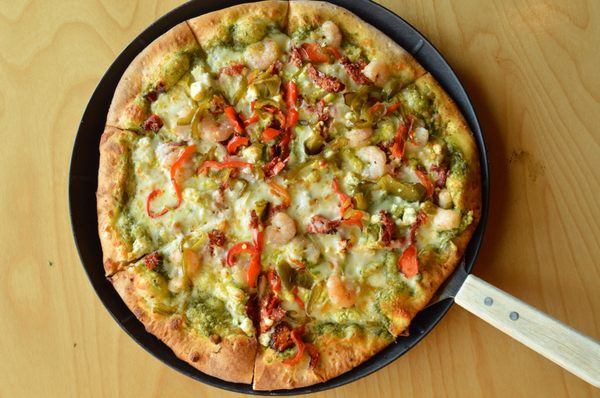sandwich: (98, 0, 482, 389)
